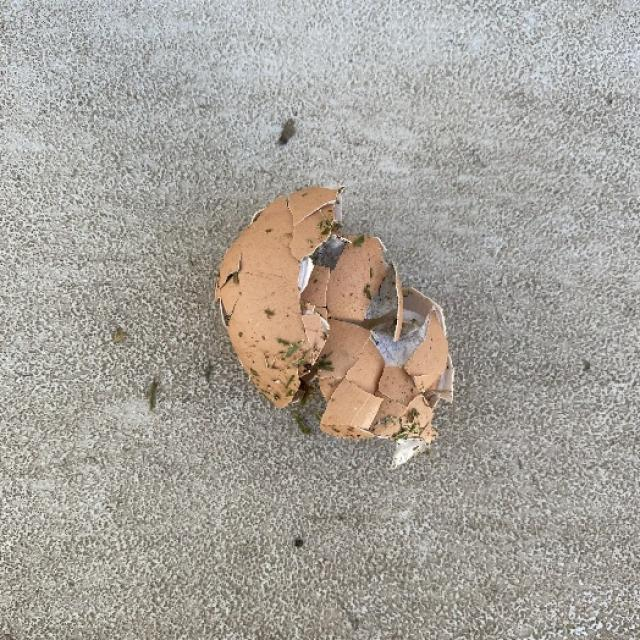organik: (216, 188, 457, 446)
